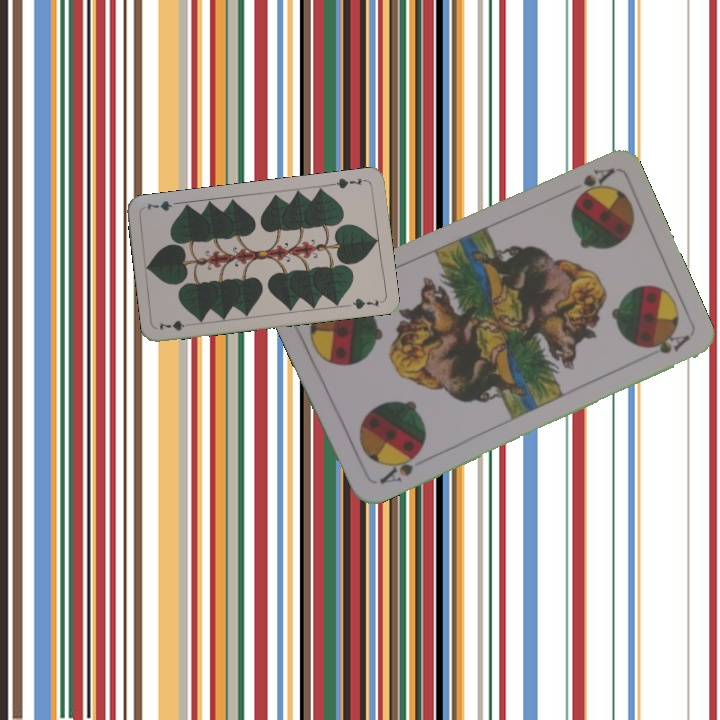G7: (155, 316, 196, 333), (328, 174, 368, 191)
SA: (375, 447, 423, 487), (570, 164, 616, 205)
